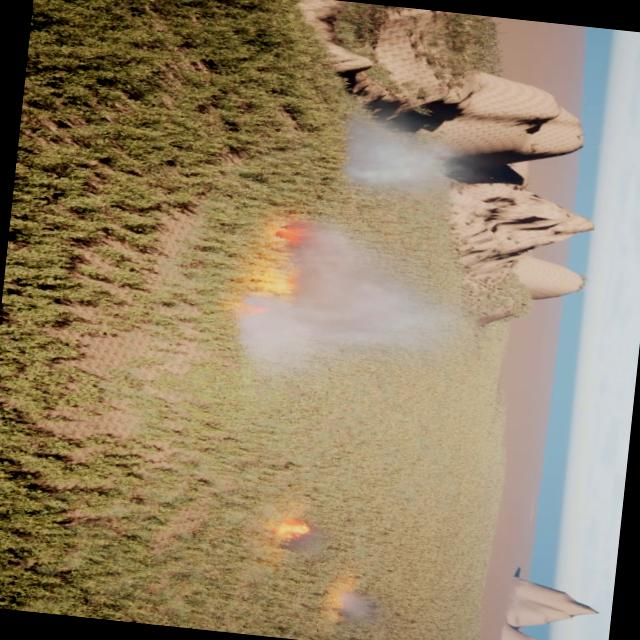fire: (269, 262, 308, 298), (277, 221, 320, 251), (276, 518, 312, 540), (232, 300, 270, 318)
smoke: (235, 213, 484, 397), (338, 116, 474, 204), (330, 588, 376, 624), (286, 528, 329, 554)
